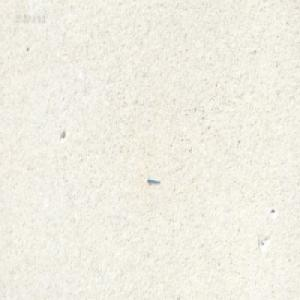Nail: (146, 174, 160, 183)
